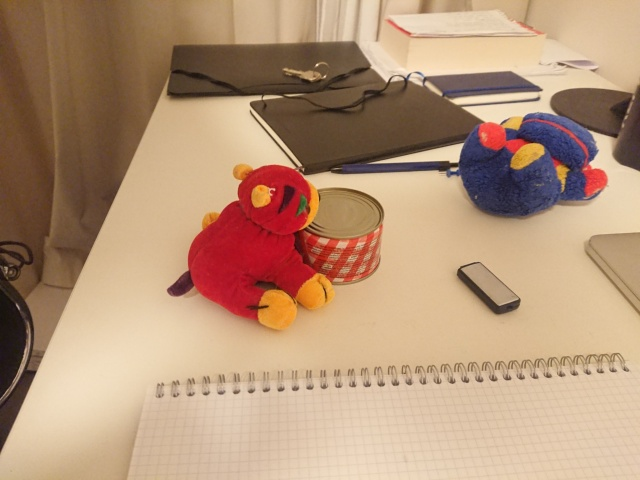Podravka Luncheon Meat 150g: (281, 185, 387, 287)
